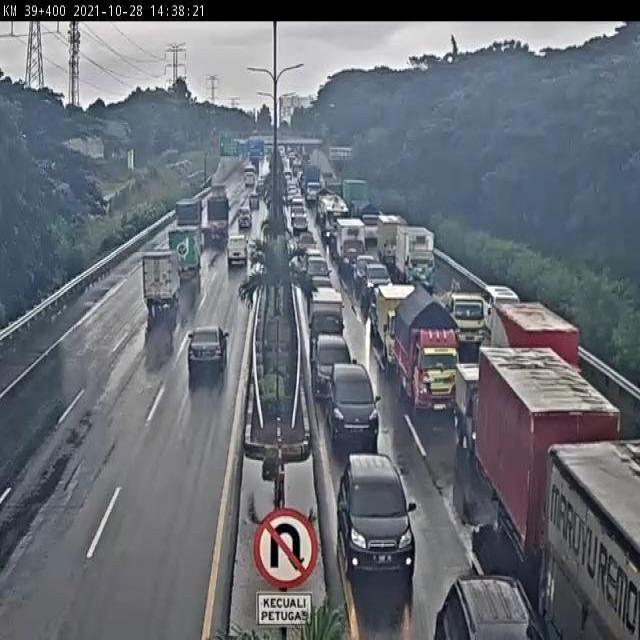big bus: (241, 162, 259, 186)
big truck: (478, 344, 607, 541), (543, 432, 640, 592), (444, 565, 549, 640), (496, 300, 582, 376), (440, 270, 487, 350), (395, 224, 440, 295), (378, 213, 408, 270), (202, 196, 231, 248), (176, 193, 205, 232)
car: (340, 448, 414, 572), (332, 357, 385, 451), (309, 336, 358, 405), (185, 327, 235, 382), (479, 280, 526, 320), (357, 262, 391, 302), (309, 272, 340, 299), (223, 237, 249, 268), (306, 259, 338, 281), (235, 204, 253, 236), (248, 193, 263, 215)
small truck: (397, 284, 461, 413), (455, 361, 498, 455), (377, 275, 419, 361), (143, 252, 184, 317), (167, 228, 205, 280), (310, 281, 349, 331)
